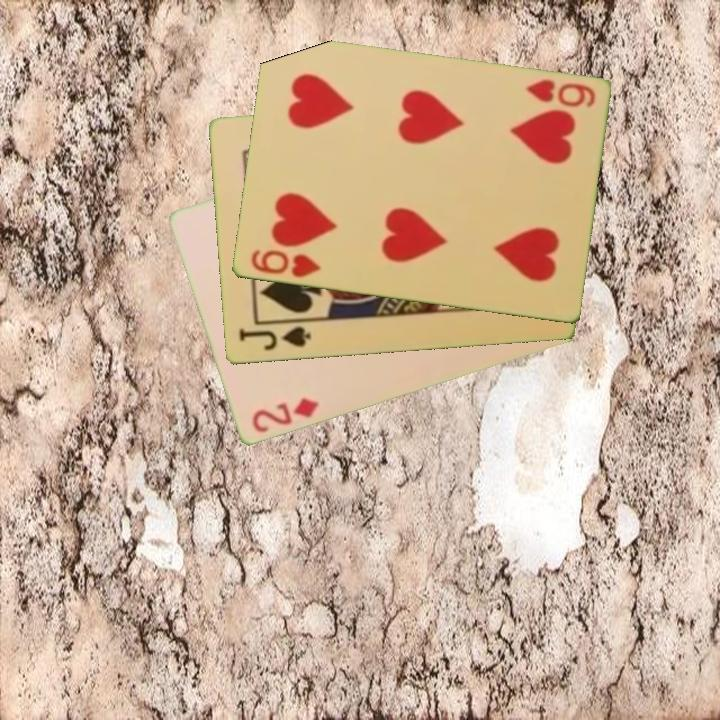2d: (248, 394, 322, 436)
6h: (247, 246, 324, 282), (522, 76, 598, 111)
Js: (235, 323, 314, 354)
